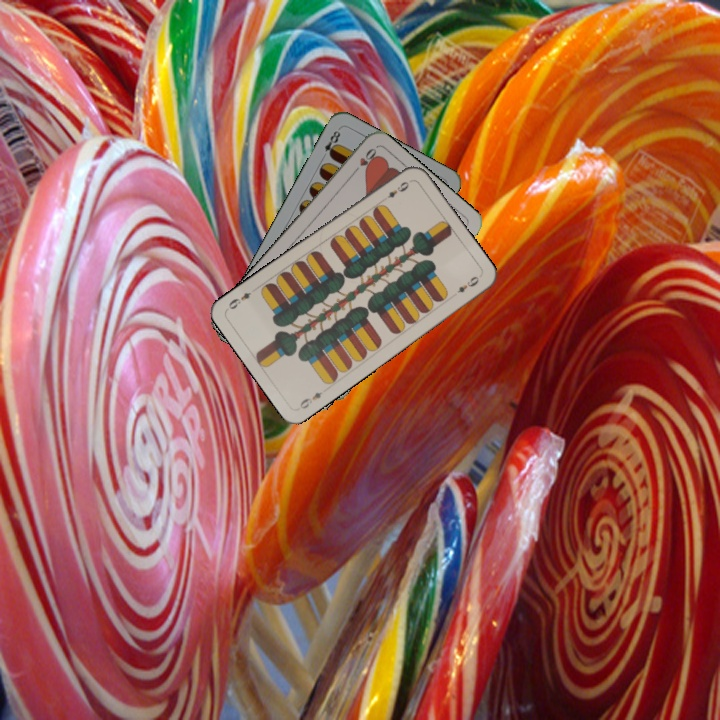E8: (317, 125, 343, 161)
E9: (383, 177, 412, 201), (296, 388, 325, 412)
HO: (348, 144, 379, 178)
